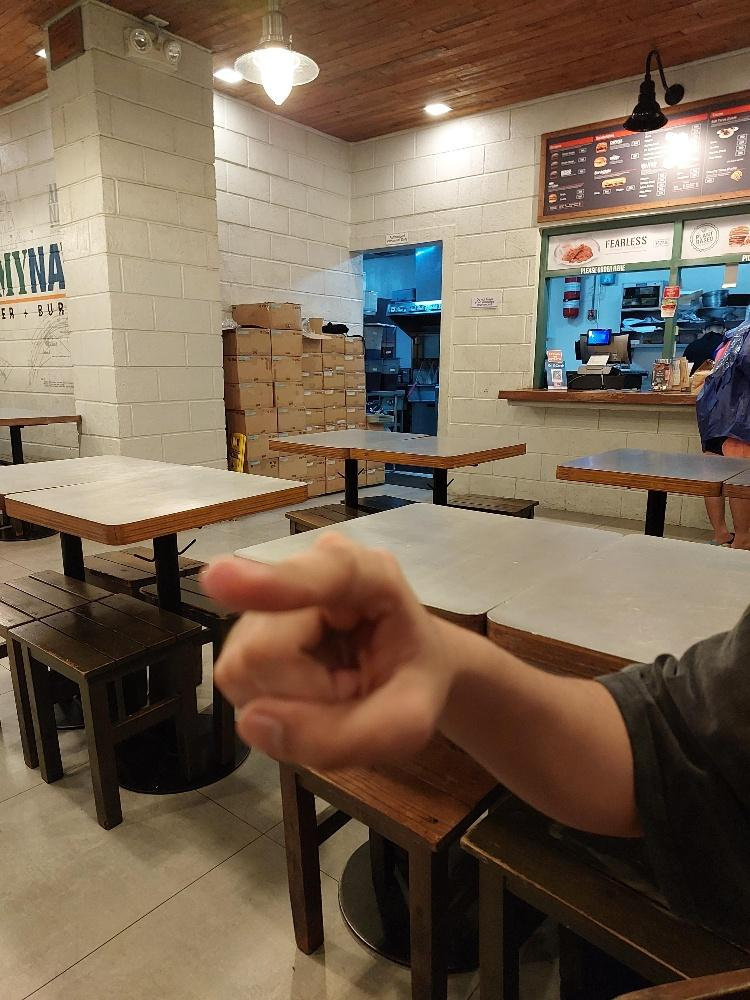z: (196, 528, 453, 773)
